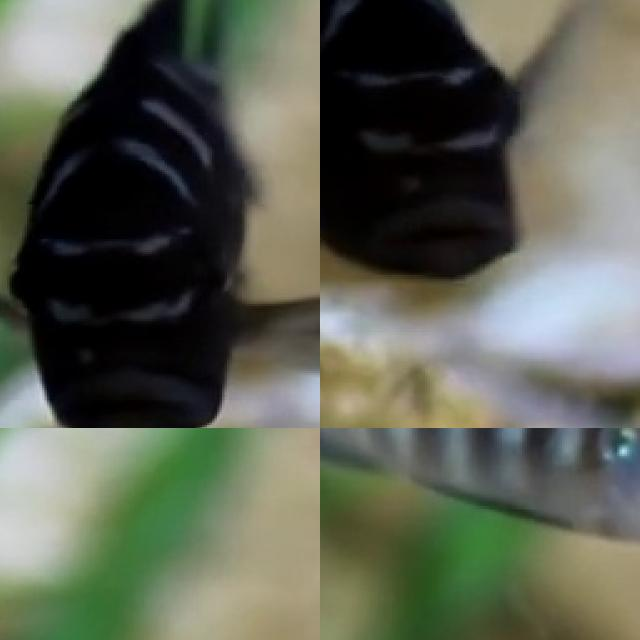fish: (0, 0, 320, 428), (320, 0, 640, 424)
